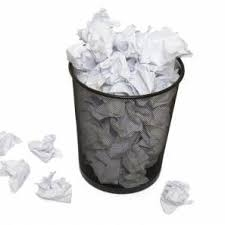paper: (128, 21, 197, 70), (78, 7, 127, 59), (29, 167, 85, 208), (83, 48, 133, 92), (157, 174, 199, 220), (106, 104, 149, 141), (1, 155, 36, 197), (27, 131, 68, 166), (85, 95, 130, 123), (88, 150, 122, 186), (61, 39, 98, 72), (117, 141, 152, 172), (1, 126, 26, 159)
